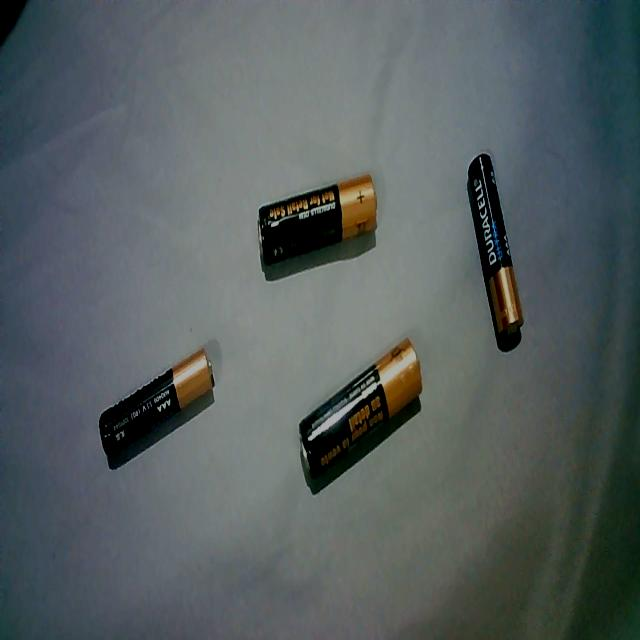AA: (292, 332, 428, 493), (254, 164, 380, 284)
AAA: (96, 345, 222, 465), (465, 147, 527, 349)
